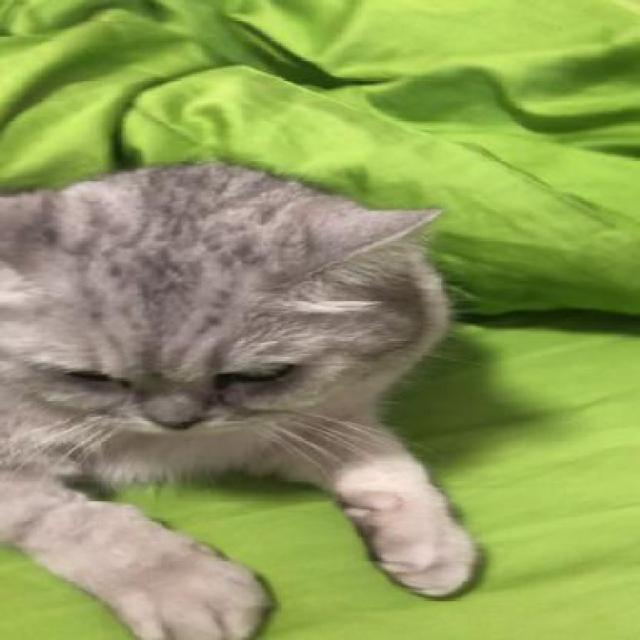cat-face: (0, 193, 438, 440)
